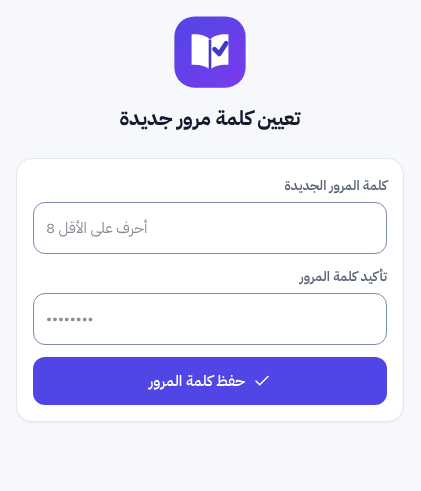
Test case: ResetPasswordPage — حالة تحميل أزرار الإرسال (3A-914) › تعيين كلمة المرور: الخطأ يصفّر الحالة — لا «جارٍ الحفظ…» عالقة
This screenshot has width=421, height=491.
Later steps or results of the test are not shown.
Type "password123" into the password field labelled "كلمة المرور الجديدة" at (210, 228), box [33,202,387,254]
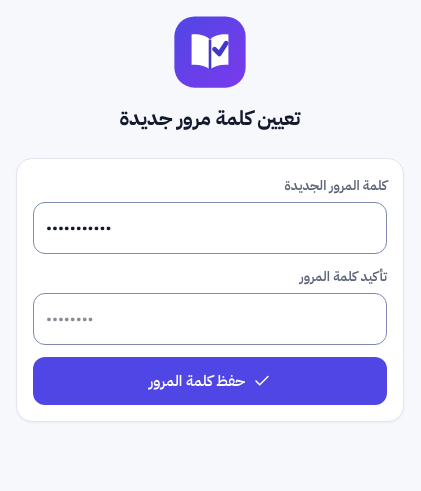
Type "password123" into the password field labelled "تأكيد كلمة المرور" at (210, 319), box [33,293,387,345]
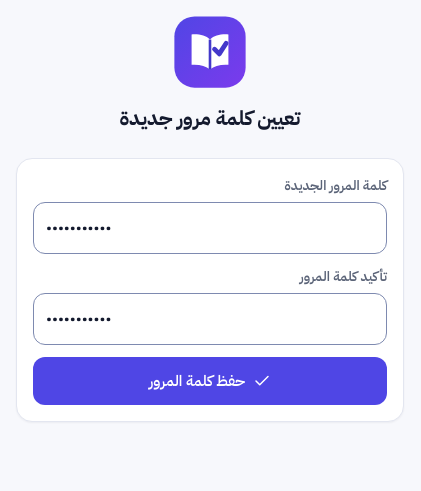
Click the button "حفظ كلمة المرور" at (210, 381), box [33,357,387,405]
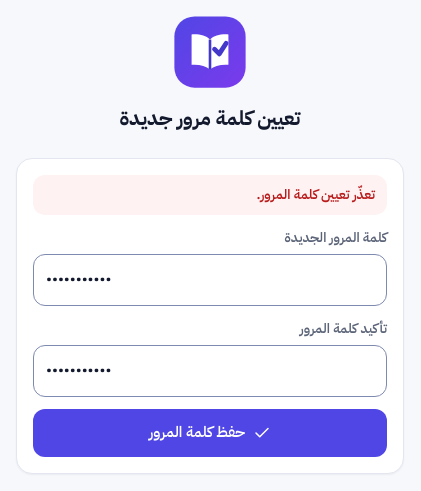
Expected: the button "حفظ كلمة المرور" is enabled, [33,408,387,456]
Expected: the message shows "تعذّر تعيين كلمة المرور", [256,184,375,205]
